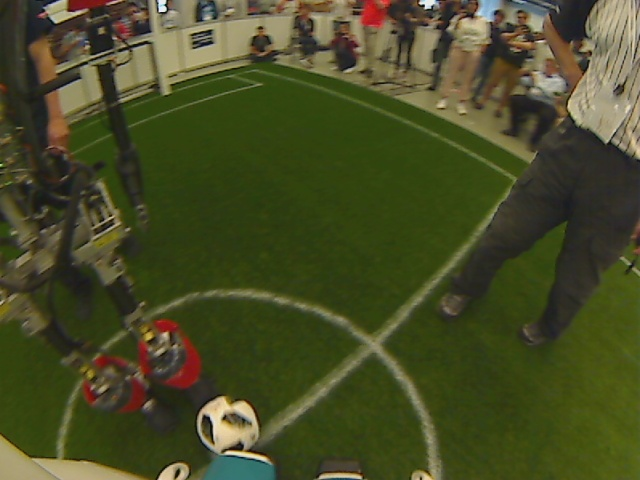ball: (193, 394, 262, 457)
goalpost: (147, 75, 181, 108)
robot: (53, 319, 221, 424)
